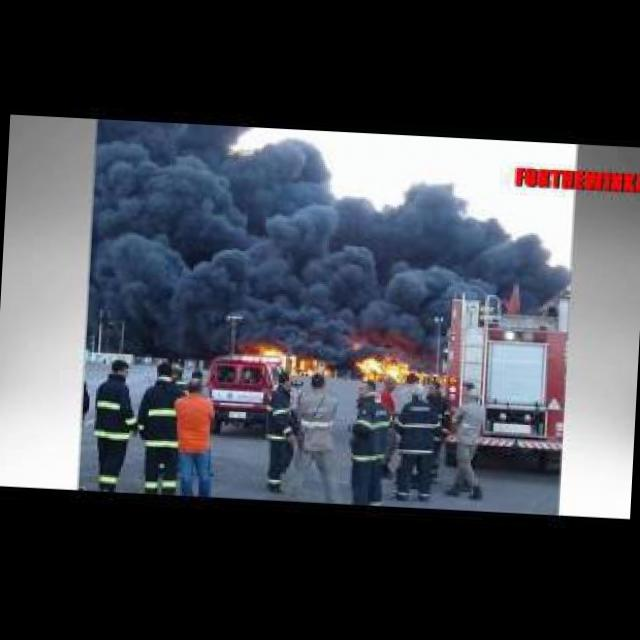fire: (359, 356, 439, 387), (265, 350, 332, 376)
smoke: (138, 138, 482, 364)
